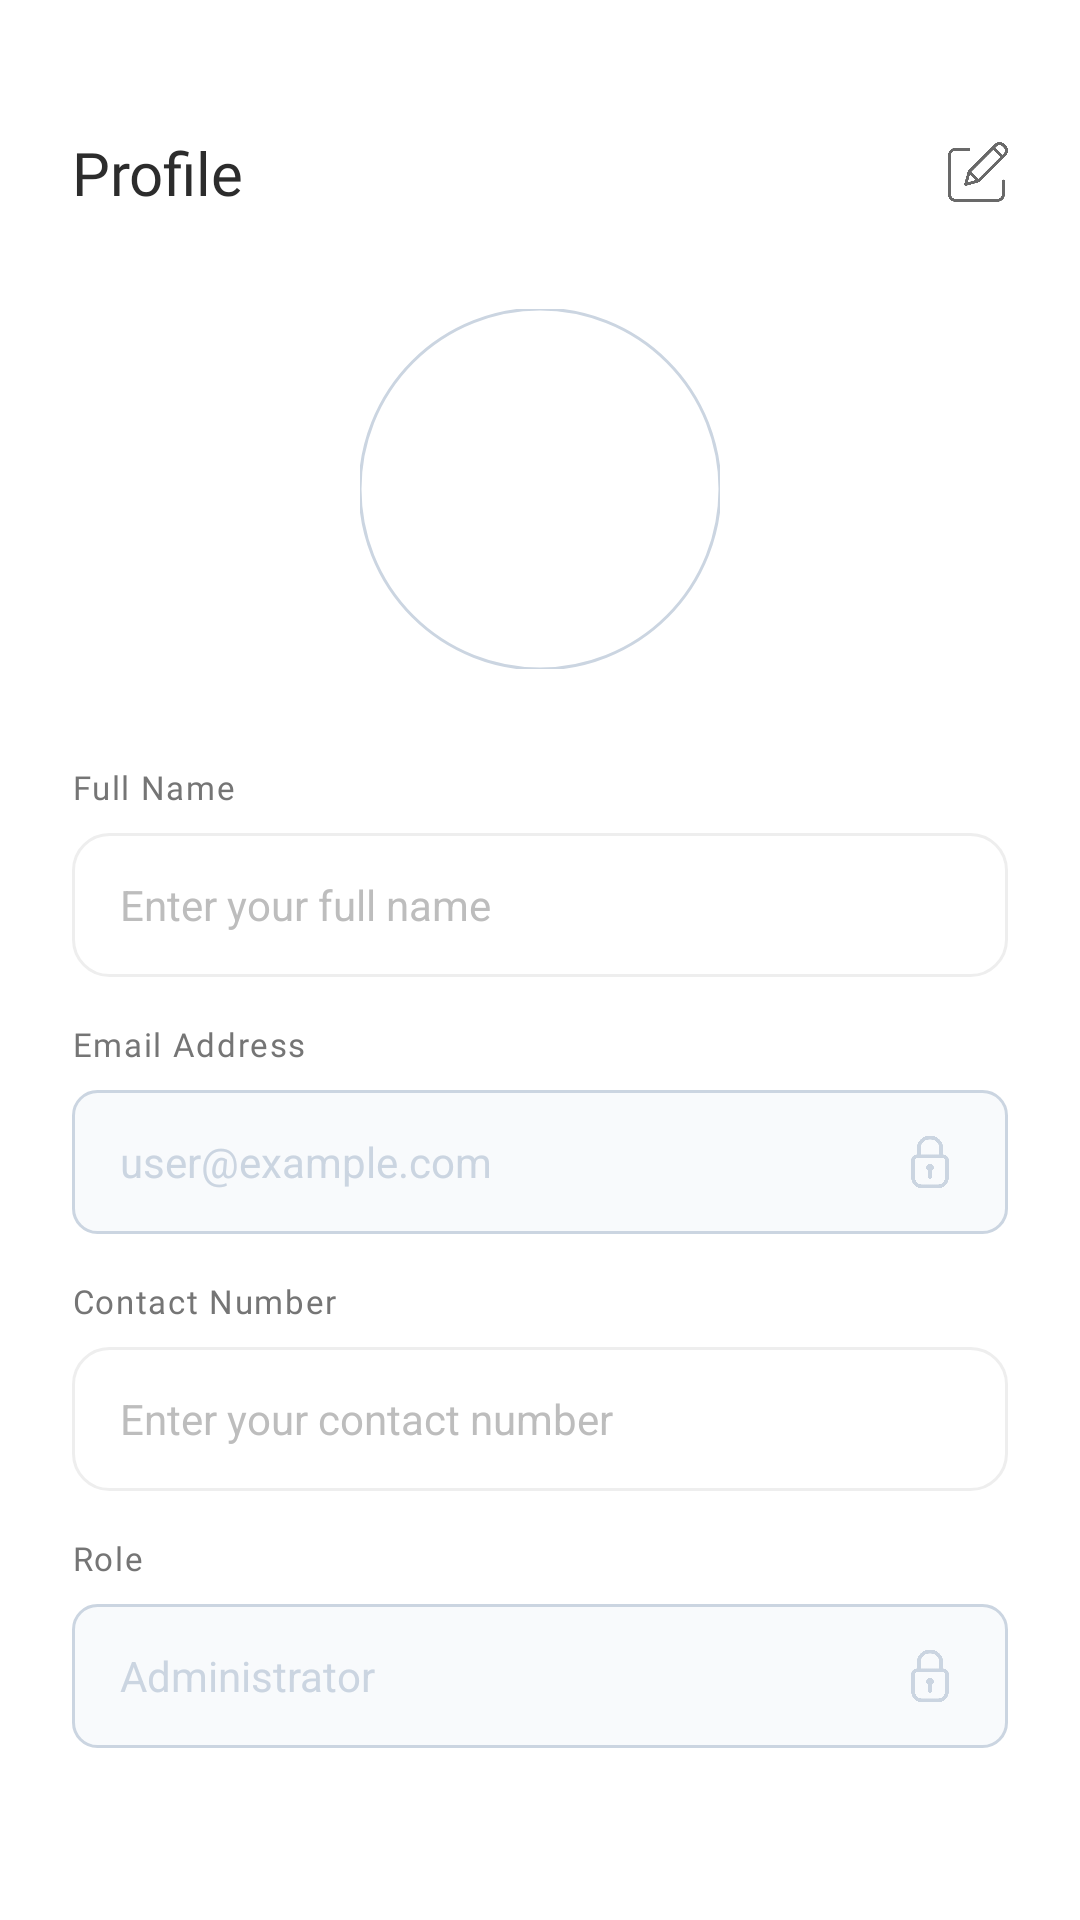

Where to tap for icons on this 1080px×1920px app screen, as point (x, y):
Read-only field: point (930, 1162), point (930, 1676)
